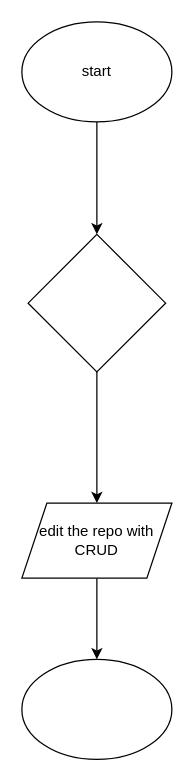
Some shapes in this 194 by 781 pixel diagram are drawn without their labels. Here are the shapes that lost their labels. From the top down, the box of each, then its label:
(27, 233, 166, 372): create a repo
(21, 658, 172, 759): end
